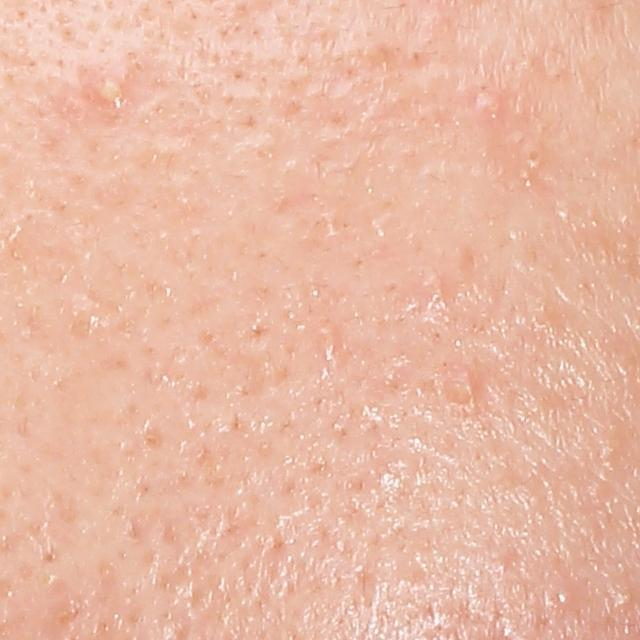comedo: (440, 368, 480, 407), (469, 90, 505, 125), (545, 584, 576, 616), (519, 144, 544, 170)
pustule: (89, 72, 127, 108)
